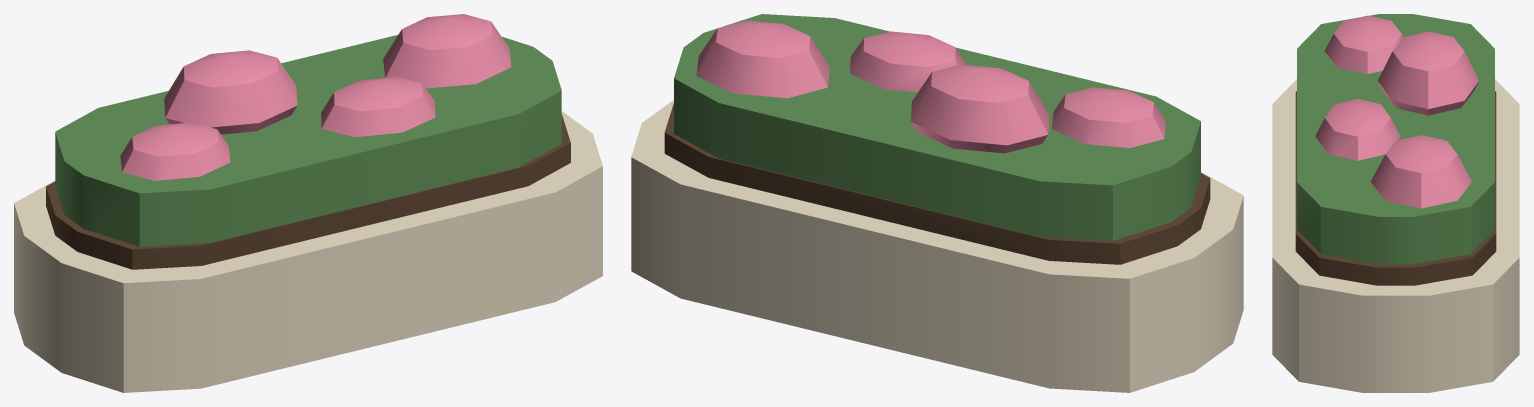
File: flower-bed-planter.glb
3 views of the same model, side by side, from view 1: azimuth 30°, elevation 25°; view 2: azimuth 150°, elevation 25°; view 3: azimuth 270°, elevation 25° (orthographic). The views are drawn at different scales.
Parts seen in each view (by area): view 1: flower-bed-planter; view 2: flower-bed-planter; view 3: flower-bed-planter.
Part boxes in pixels (x1,y1,x2,y2): flower-bed-planter: (14, 14, 602, 392); flower-bed-planter: (631, 14, 1243, 392); flower-bed-planter: (1272, 14, 1519, 392).
Bounding box in the file's own units: 3.85 × 1.66 × 1.75.
2 materials, 2 textured.
